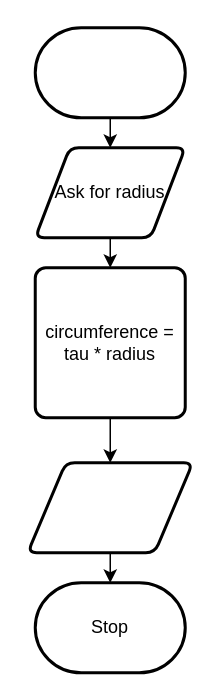
This 219x699 diagram has some shape labels left out. Here are the shapes that lost their labels. From the top down, the centre of each, then its label:
At point 109,72: "Start".
At point 110,507: "Show circumference".
